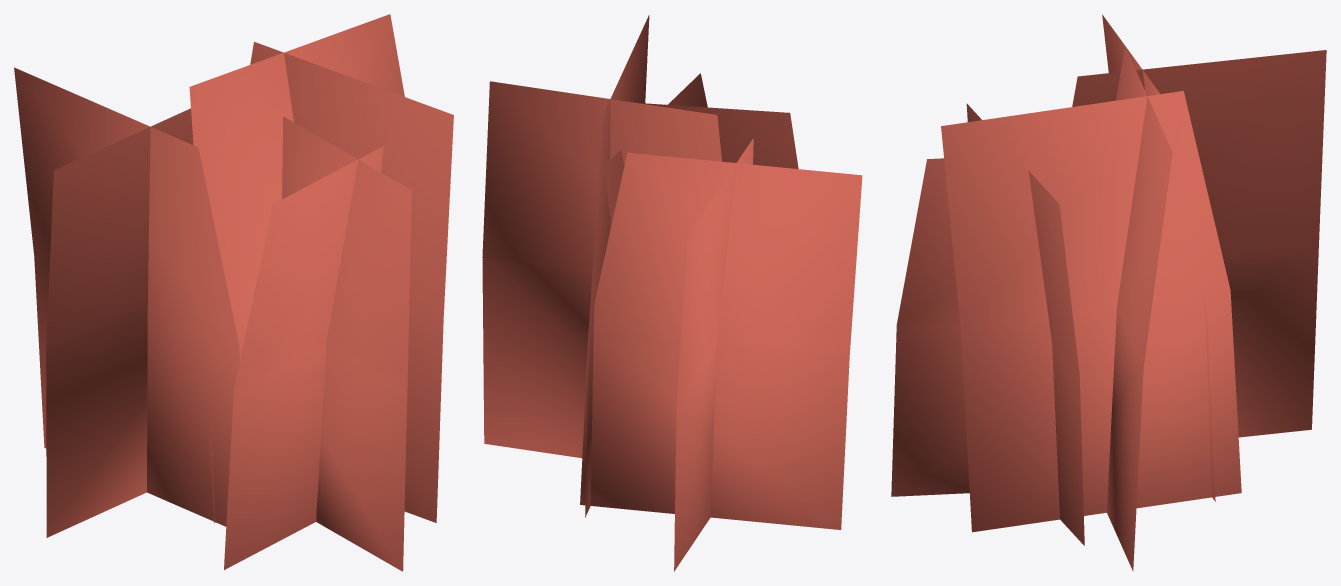
File: flowers_3.glb
3 views of the same model, side by side, from view 1: azimuth 30°, elevation 25°; view 2: azimuth 150°, elevation 25°; view 3: azimuth 270°, elevation 25° (orthographic). The views are drawn at different scales.
Parts seen in each view (by area): view 1: flowers_3; view 2: flowers_3; view 3: flowers_3.
Part boxes in pixels (x1,y1,x2,y2): flowers_3: (14, 14, 453, 571); flowers_3: (482, 15, 862, 571); flowers_3: (891, 14, 1326, 571).
Bounding box in the file's own units: 0.9403 × 0.9439 × 0.9153.
